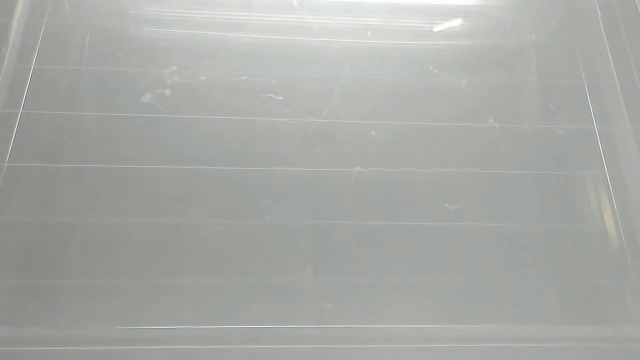alpha: (428, 14, 469, 35)
